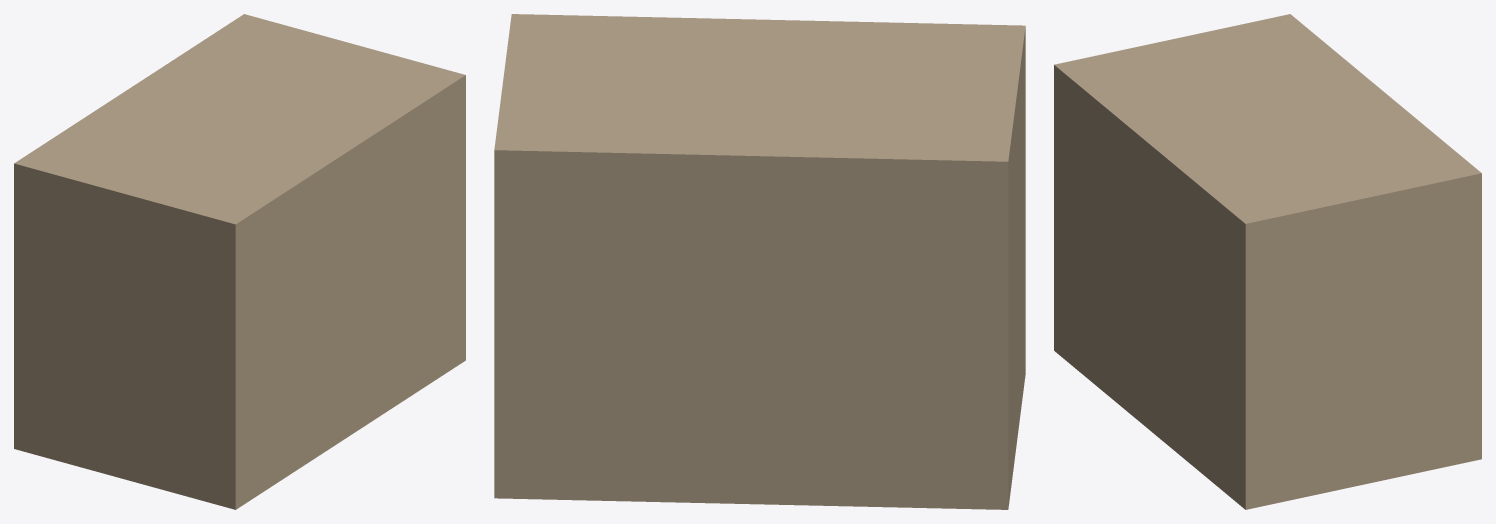
File: bld_101806025.dae
3 views of the same model, side by side, from view 1: azimuth 30°, elevation 25°; view 2: azimuth 150°, elevation 25°; view 3: azimuth 270°, elevation 25° (orthographic). The views are drawn at different scales.
Parts seen in each view (by area): view 1: bld_101806025; view 2: bld_101806025; view 3: bld_101806025.
Part boxes in pixels (bbox=[...]): bld_101806025: bbox=[14, 14, 465, 509]; bld_101806025: bbox=[494, 14, 1025, 509]; bld_101806025: bbox=[1054, 14, 1481, 509].
Bounding box in the file's own units: 12.6 × 10.85 × 8.
